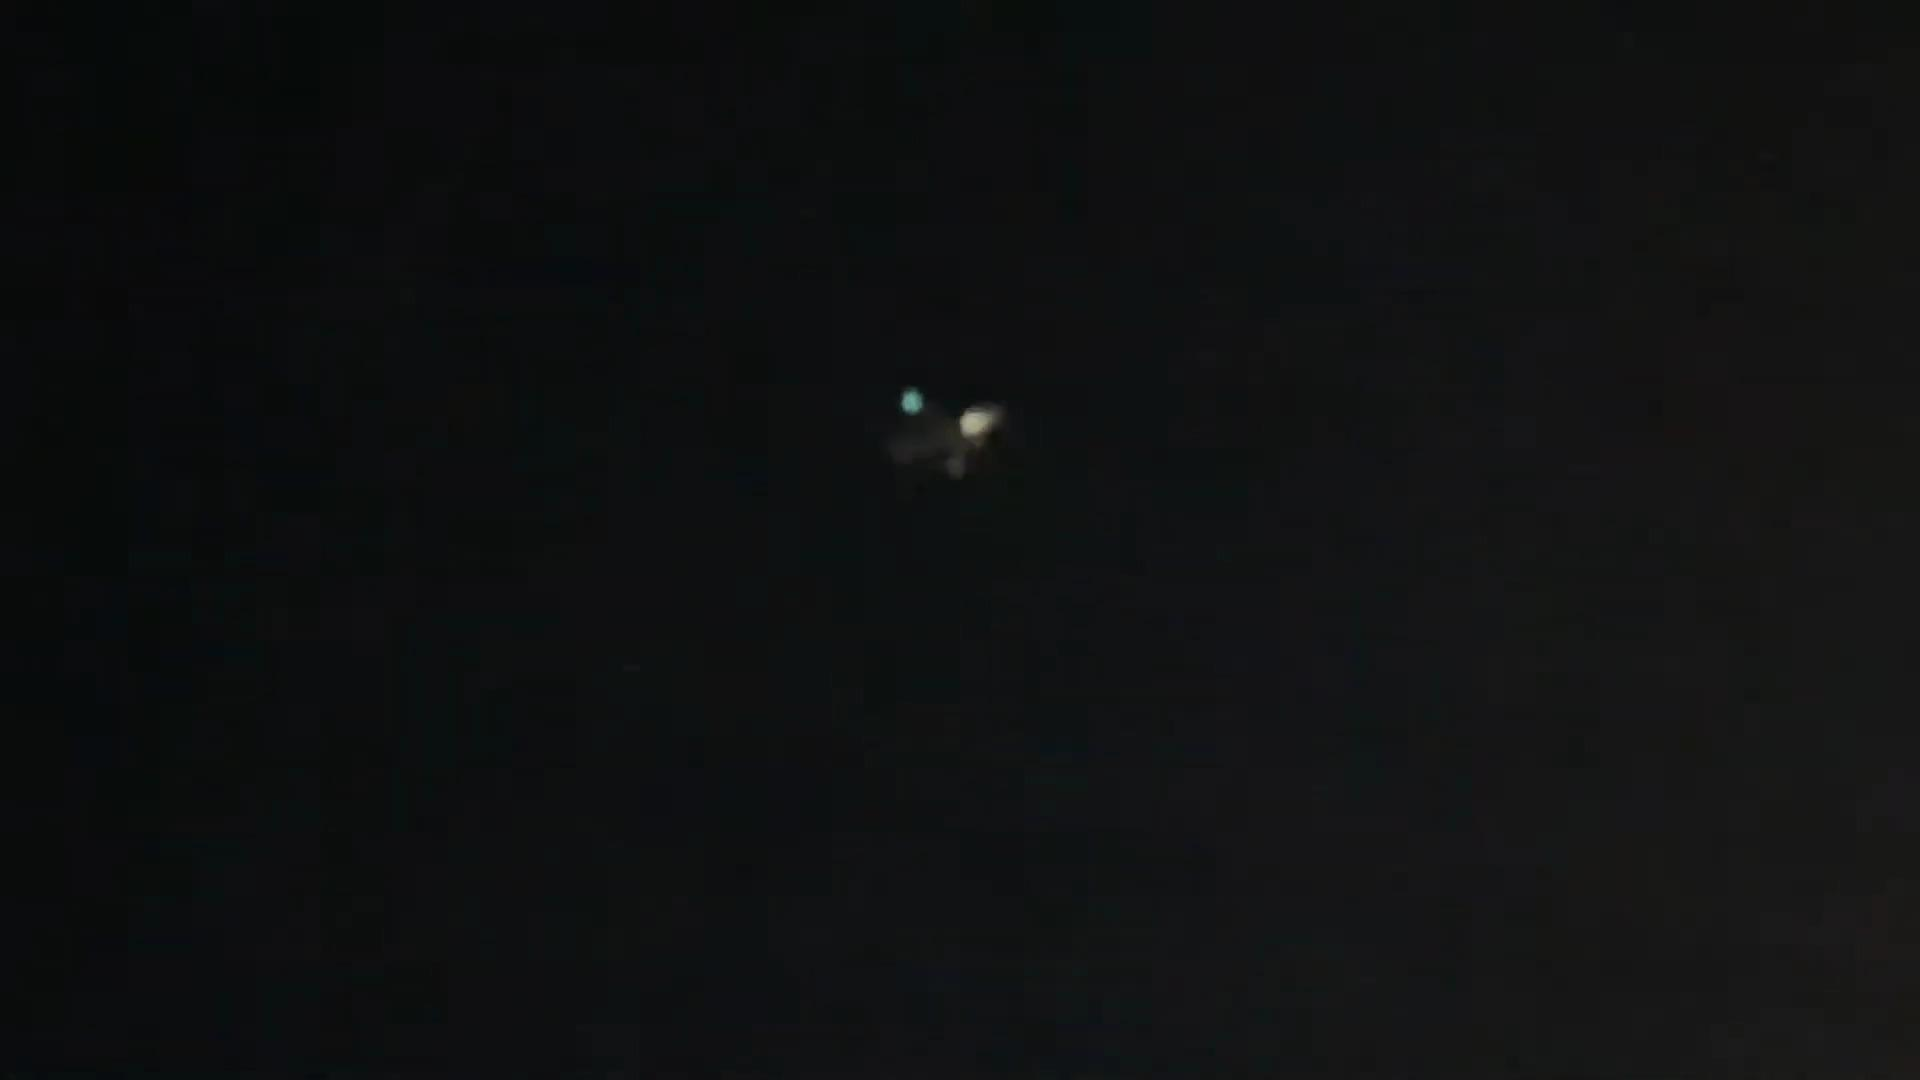Plane: (800, 351, 1096, 510)
